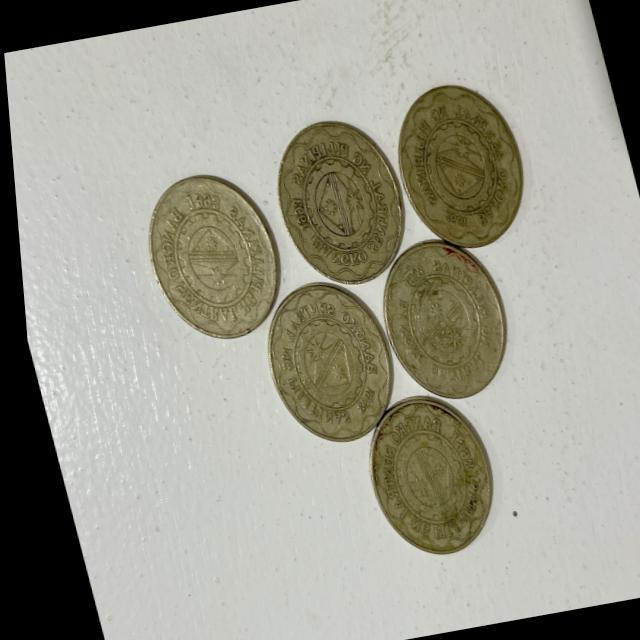5_Old_Back: (345, 382, 501, 572), (121, 170, 285, 350), (381, 75, 538, 258), (260, 115, 416, 294), (358, 237, 512, 411), (249, 274, 394, 451)
